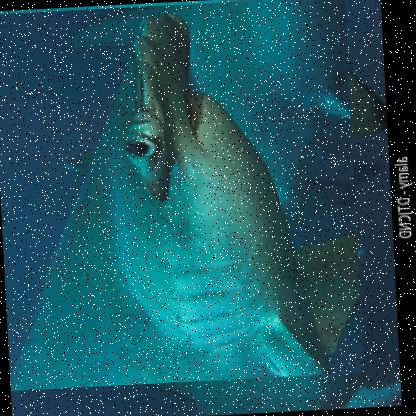hammerhead_Shark: (0, 0, 364, 392)
